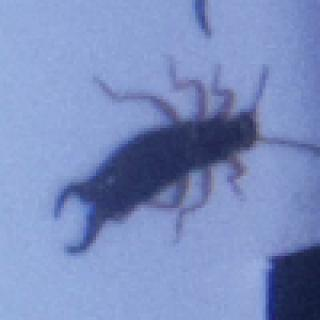earwig: (47, 48, 320, 254)
